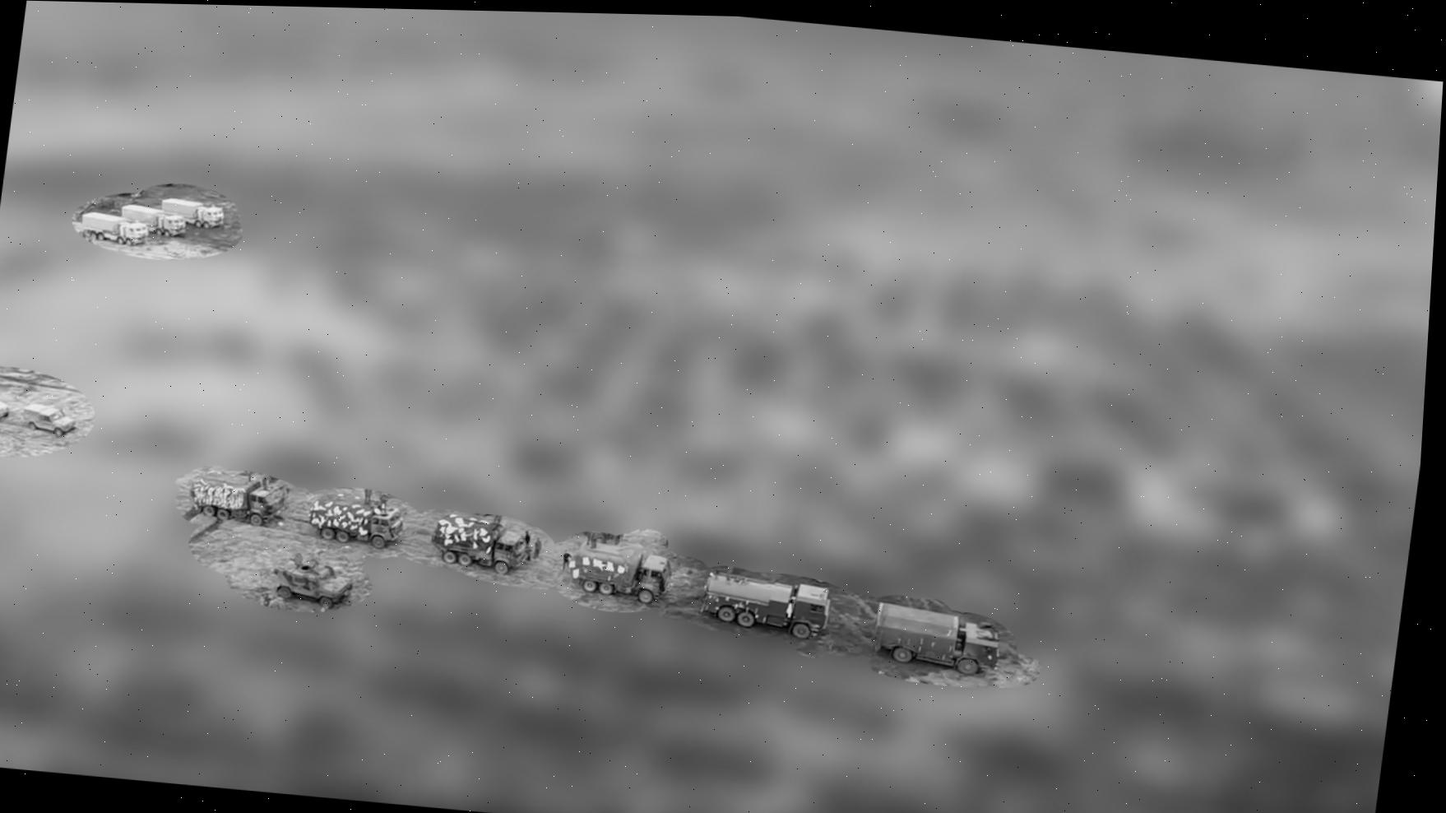armored_car: (268, 554, 359, 611), (19, 401, 80, 438), (0, 390, 11, 426)
truck: (868, 600, 1006, 679), (698, 572, 835, 641), (560, 538, 678, 607), (426, 509, 538, 577), (302, 490, 409, 550), (187, 471, 289, 530), (78, 210, 151, 249)
